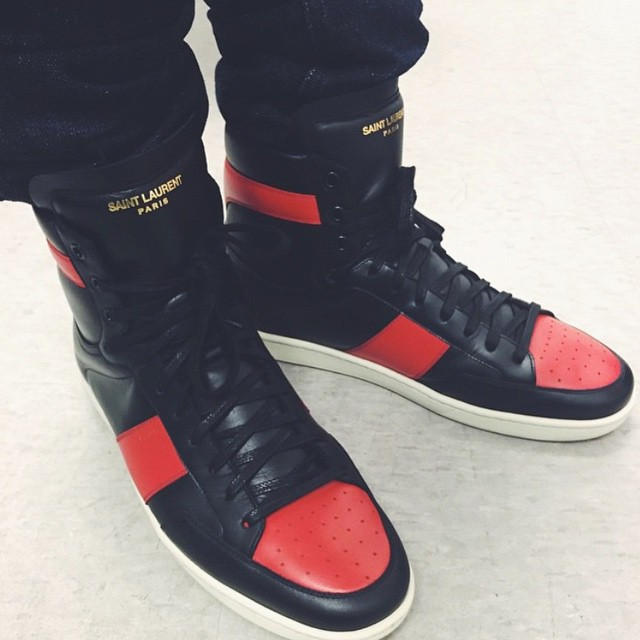sneaker: (7, 135, 443, 640), (195, 86, 640, 464)
